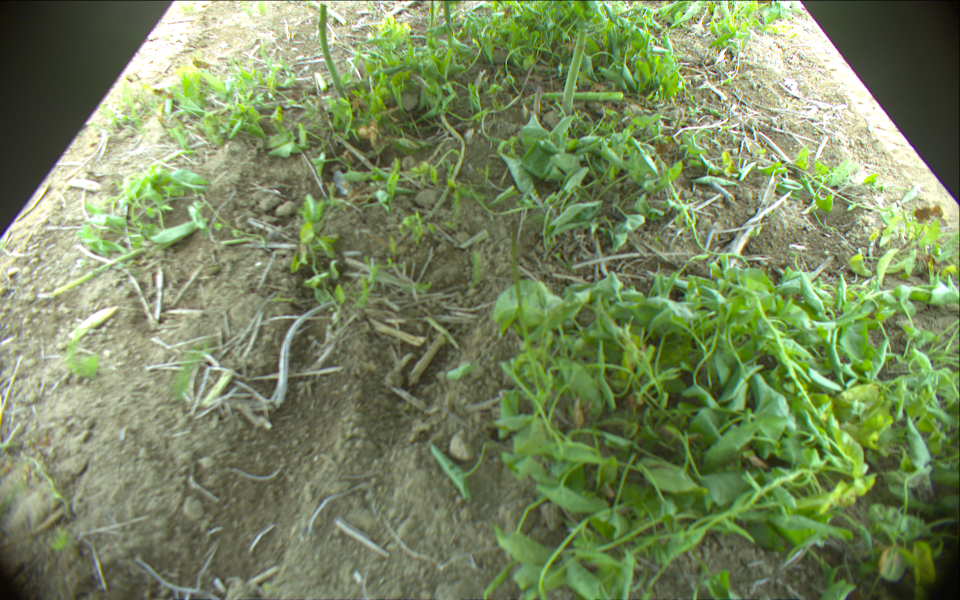aspa: (318, 3, 346, 101), (563, 26, 588, 118), (512, 93, 623, 104), (534, 86, 542, 111)
